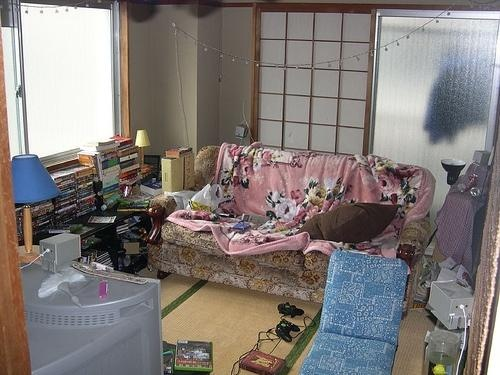chair: (300, 249, 412, 375)
sofa: (150, 141, 437, 322)
tvmonitor: (19, 255, 165, 375)
